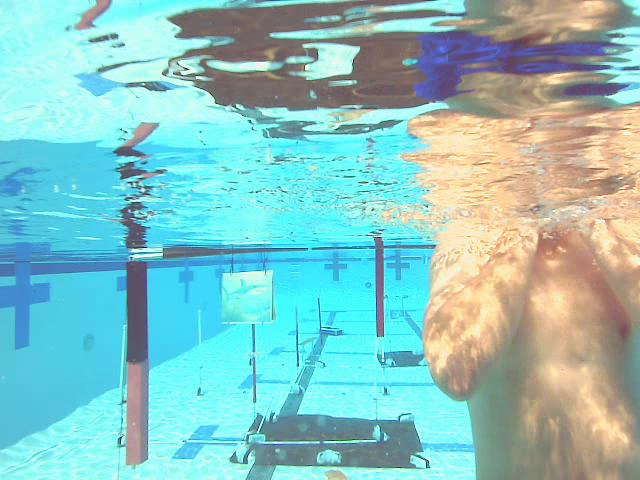black_poster: (251, 325, 257, 403), (294, 305, 301, 370), (317, 299, 323, 345)
divider: (376, 241, 385, 337)
left_gate_poster: (127, 260, 148, 467)
shark: (222, 272, 273, 322)
white_poster: (119, 325, 126, 447), (197, 309, 204, 393)
